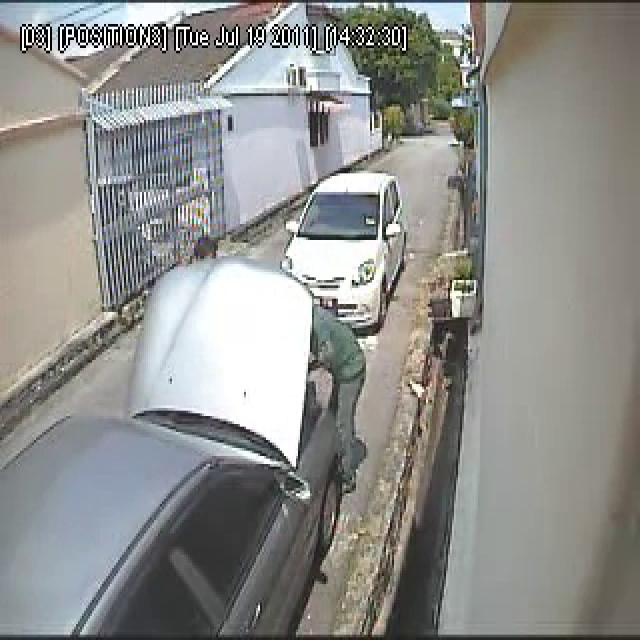stealing: (94, 143, 427, 504)
